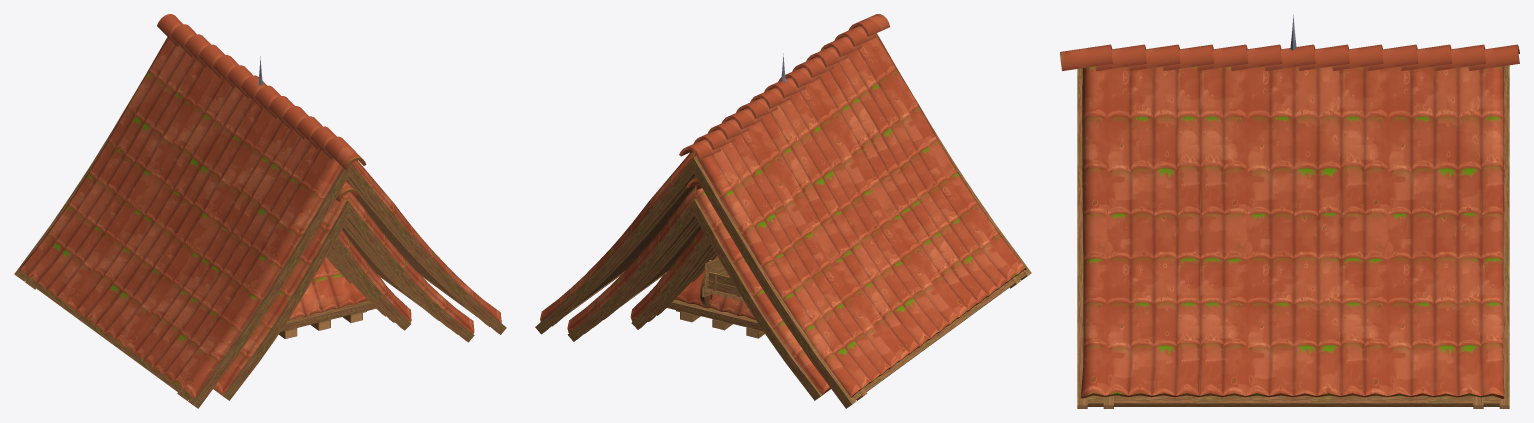
File: batiments.glb
3 views of the same model, side by side, from view 1: azimuth 30°, elevation 25°; view 2: azimuth 150°, elevation 25°; view 3: azimuth 270°, elevation 25° (orthographic). The views are drawn at different scales.
Parts seen in each view (by area): view 1: Roof_RoundTiles_8x8, Roof_RoundTiles_6x8, Roof_Tower_RoundTiles, Roof_RoundTiles_4x6, Roof_RoundTiles_6x6; view 2: Roof_RoundTiles_8x8, Roof_RoundTiles_6x8, Roof_Tower_RoundTiles, Roof_RoundTiles_4x6, Prop_Wagon, Roof_RoundTiles_6x6; view 3: Roof_RoundTiles_8x8.
Boxes of the visible parts, box(x1,y1,x2,y2) form: Roof_RoundTiles_8x8: box(14, 14, 506, 408); Roof_RoundTiles_6x8: box(213, 181, 474, 400); Roof_Tower_RoundTiles: box(258, 56, 385, 338); Roof_RoundTiles_4x6: box(330, 229, 411, 330); Roof_RoundTiles_6x6: box(342, 222, 449, 328); Roof_RoundTiles_8x8: box(535, 14, 1031, 408); Roof_RoundTiles_6x8: box(567, 178, 830, 400); Roof_Tower_RoundTiles: box(658, 53, 785, 338); Roof_RoundTiles_4x6: box(630, 228, 713, 329); Prop_Wagon: box(700, 258, 748, 308); Roof_RoundTiles_6x6: box(593, 220, 701, 327); Roof_RoundTiles_8x8: box(1060, 44, 1519, 408).
Bounding box in the file's own units: 9.95 × 8.91 × 10.33.
Materials: 9 (8 with a texture image).
